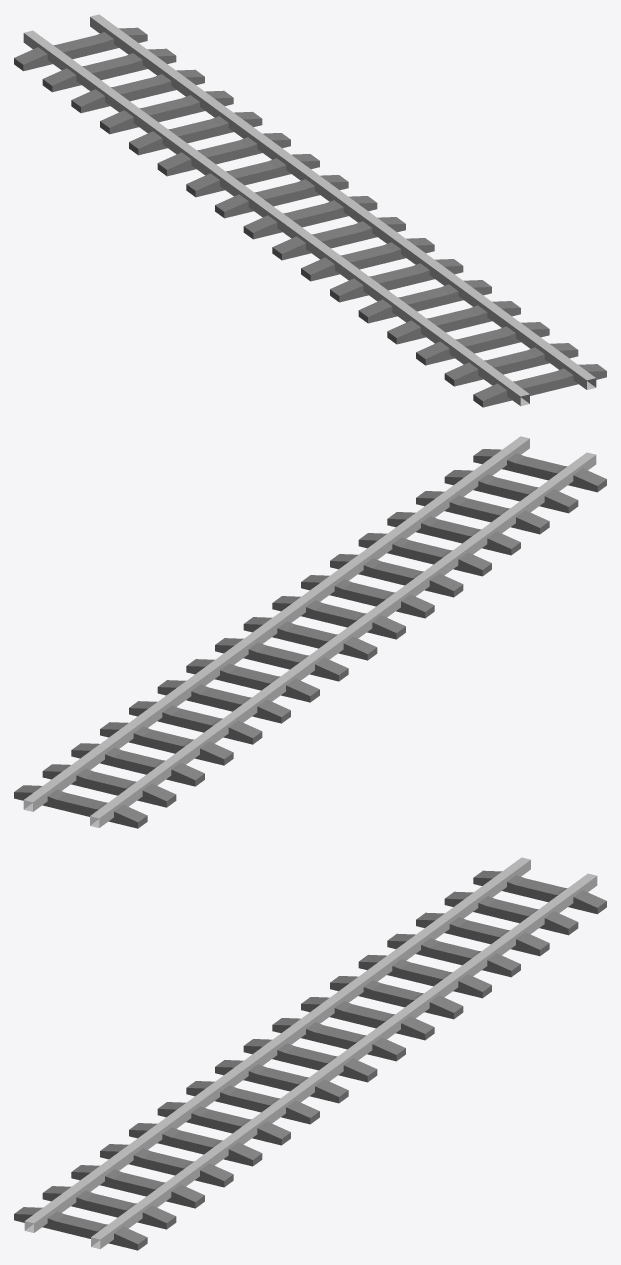
Rendered from Railway.fbx.
The picture shows the model from 3 angles, top to bottom: view 1: azimuth 30°, elevation 25°; view 2: azimuth 150°, elevation 25°; view 3: azimuth 330°, elevation 25°; orthographic projection.
Visible parts, largest first — view 1: Railway; view 2: Railway; view 3: Railway.
Boxes of the visible parts, box(x1,y1,x2,y2) form: Railway: box(14, 14, 606, 407); Railway: box(14, 436, 606, 828); Railway: box(14, 857, 606, 1250).
Bounding box in the file's own units: 596 × 68.99 × 4136.
